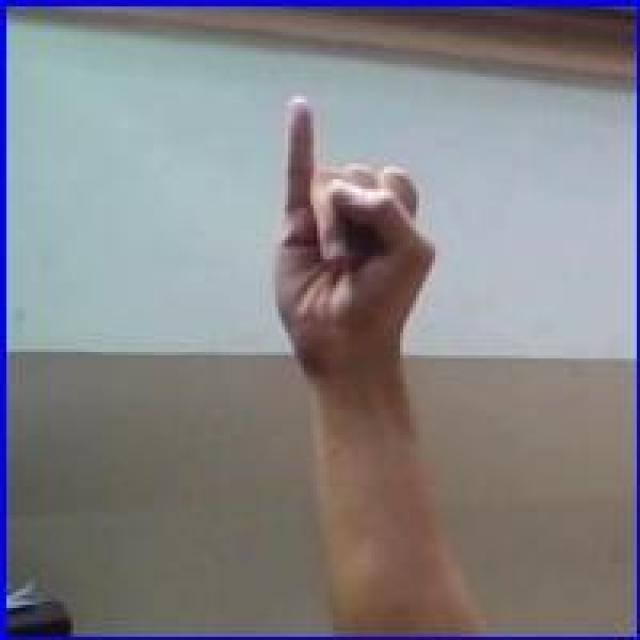I: (267, 90, 440, 435)
